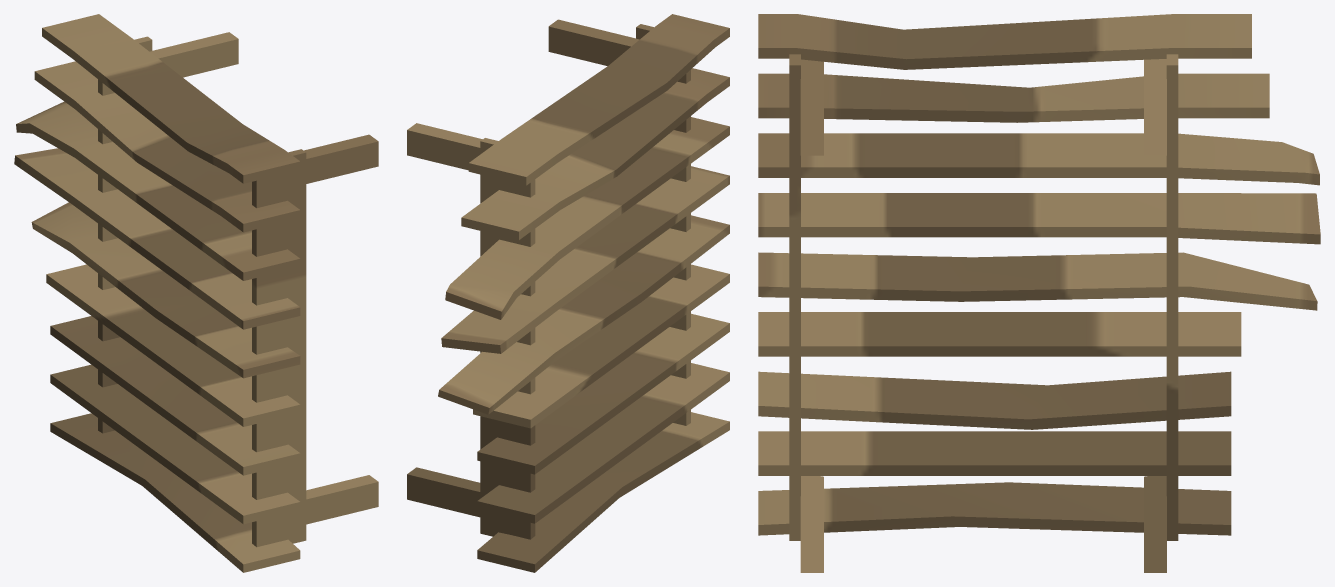
Rendered from SM_Veh_Attach_Tank_Armour_03.fbx.
The picture shows the model from 3 angles, left to right: view 1: azimuth 30°, elevation 25°; view 2: azimuth 150°, elevation 25°; view 3: azimuth 270°, elevation 25°; orthographic projection. The views are drawn at different scales.
Visible parts, largest first — view 1: SM_Veh_Attach_Tank_Armour_03; view 2: SM_Veh_Attach_Tank_Armour_03; view 3: SM_Veh_Attach_Tank_Armour_03.
Part boxes in pixels (x1,y1,x2,y2): SM_Veh_Attach_Tank_Armour_03: (14, 14, 378, 572); SM_Veh_Attach_Tank_Armour_03: (407, 14, 729, 572); SM_Veh_Attach_Tank_Armour_03: (758, 14, 1320, 572).
Size of the model in its own units: 31.1 by 76.73 by 80.23.
